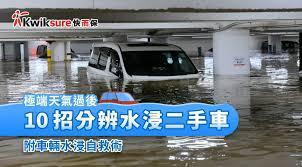water: (0, 50, 301, 165)
